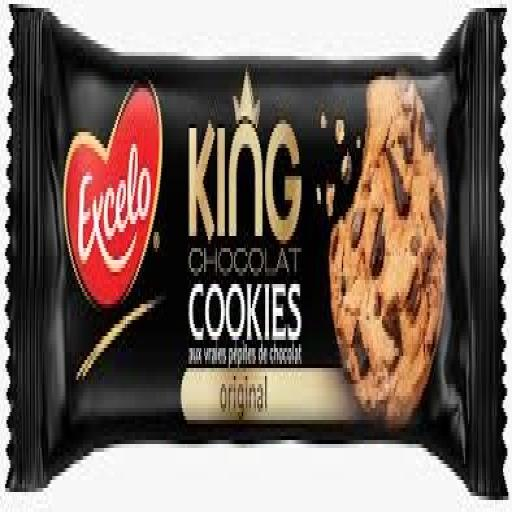king-cooking: (49, 11, 502, 507)
